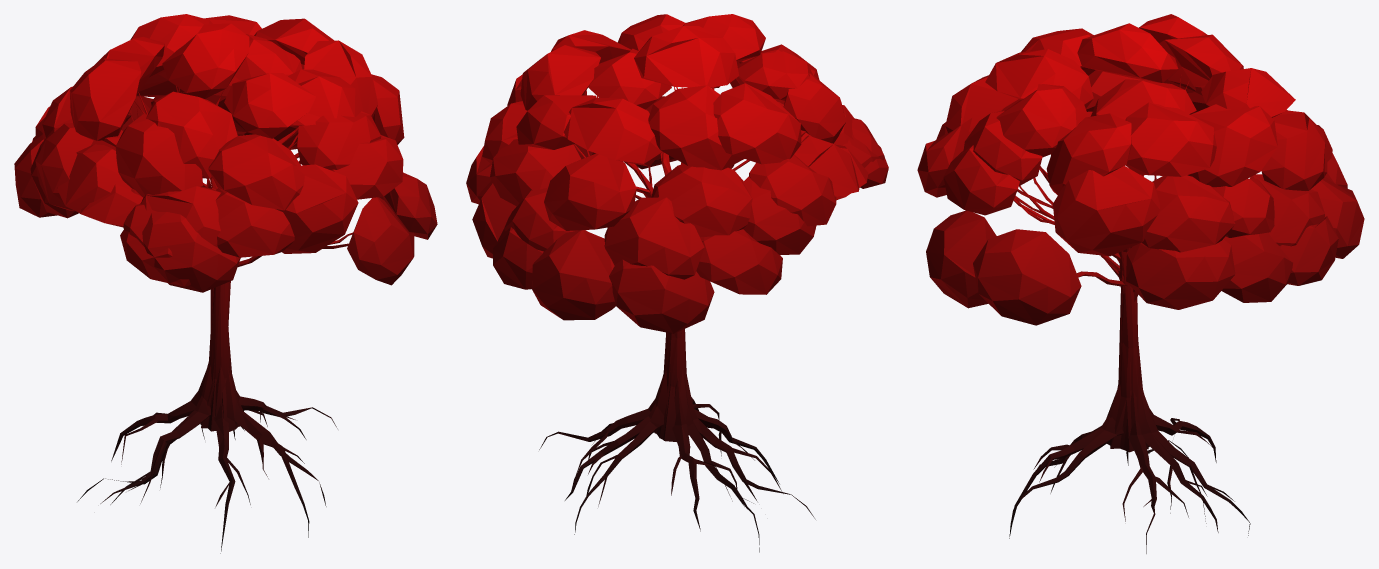
File: TreeMahogany03.fbx
The picture shows the model from 3 angles, left to right: view 1: azimuth 30°, elevation 25°; view 2: azimuth 150°, elevation 25°; view 3: azimuth 270°, elevation 25°; orthographic projection. The views are drawn at different scales.
Visible parts, largest first — view 1: TreeMahogany03_LOD0; view 2: TreeMahogany03_LOD0; view 3: TreeMahogany03_LOD0.
Boxes of the visible parts, bbox=[...] form: TreeMahogany03_LOD0: bbox=[14, 14, 437, 553]; TreeMahogany03_LOD0: bbox=[466, 14, 888, 552]; TreeMahogany03_LOD0: bbox=[917, 14, 1364, 553].
Size of what is drawn, in the model's own units: 1685 by 2246 by 1841.
